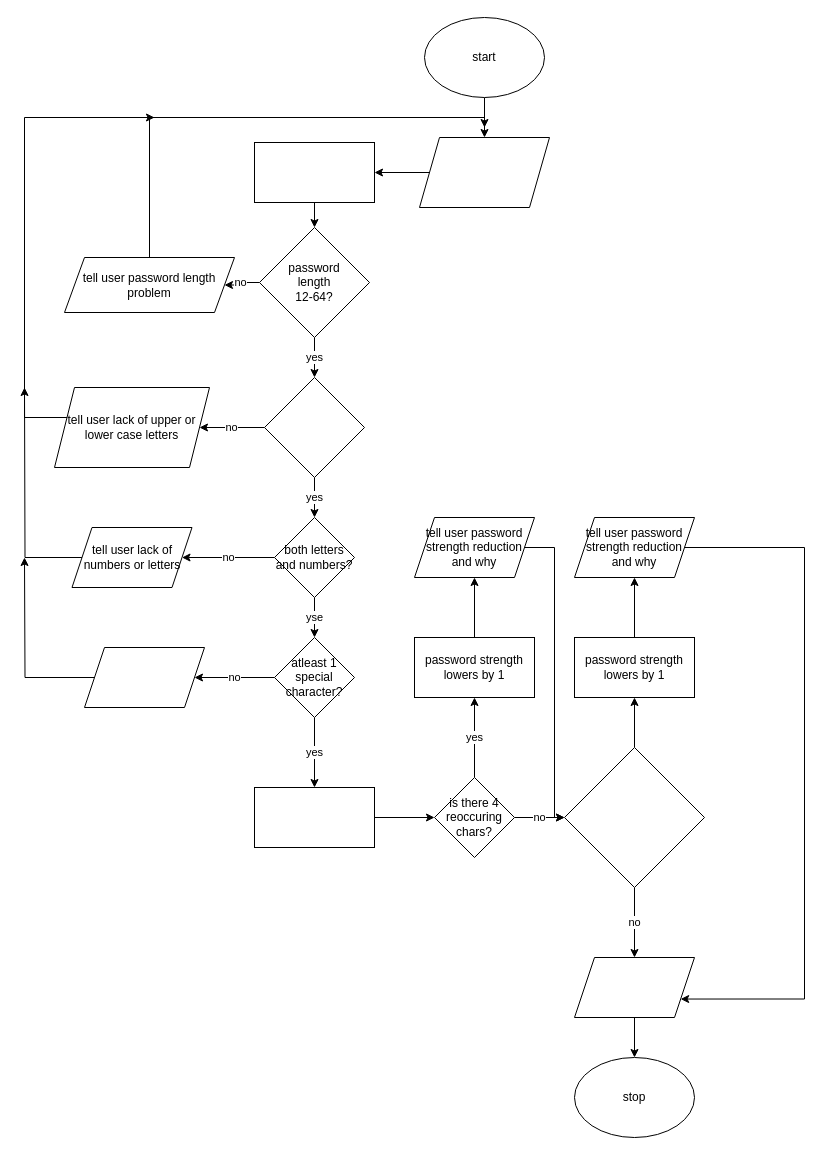
The diagram is 830 pixels wide and 1155 high, and some of its shapes have lost their labels. Here are the shapes that lost their labels. From the top down, the centre of each, then its label:
At (x=314, y=172): "validate password".
At (x=484, y=172): "get password from console".
At (x=314, y=427): "mix of upper and lowercase letters?".
At (x=144, y=677): "tell user requirements of special characters".
At (x=314, y=817): "check strength of password".
At (x=634, y=817): "reoccuring, easily noticable patterns of numbers?".
At (x=634, y=987): "tell user password strength".
